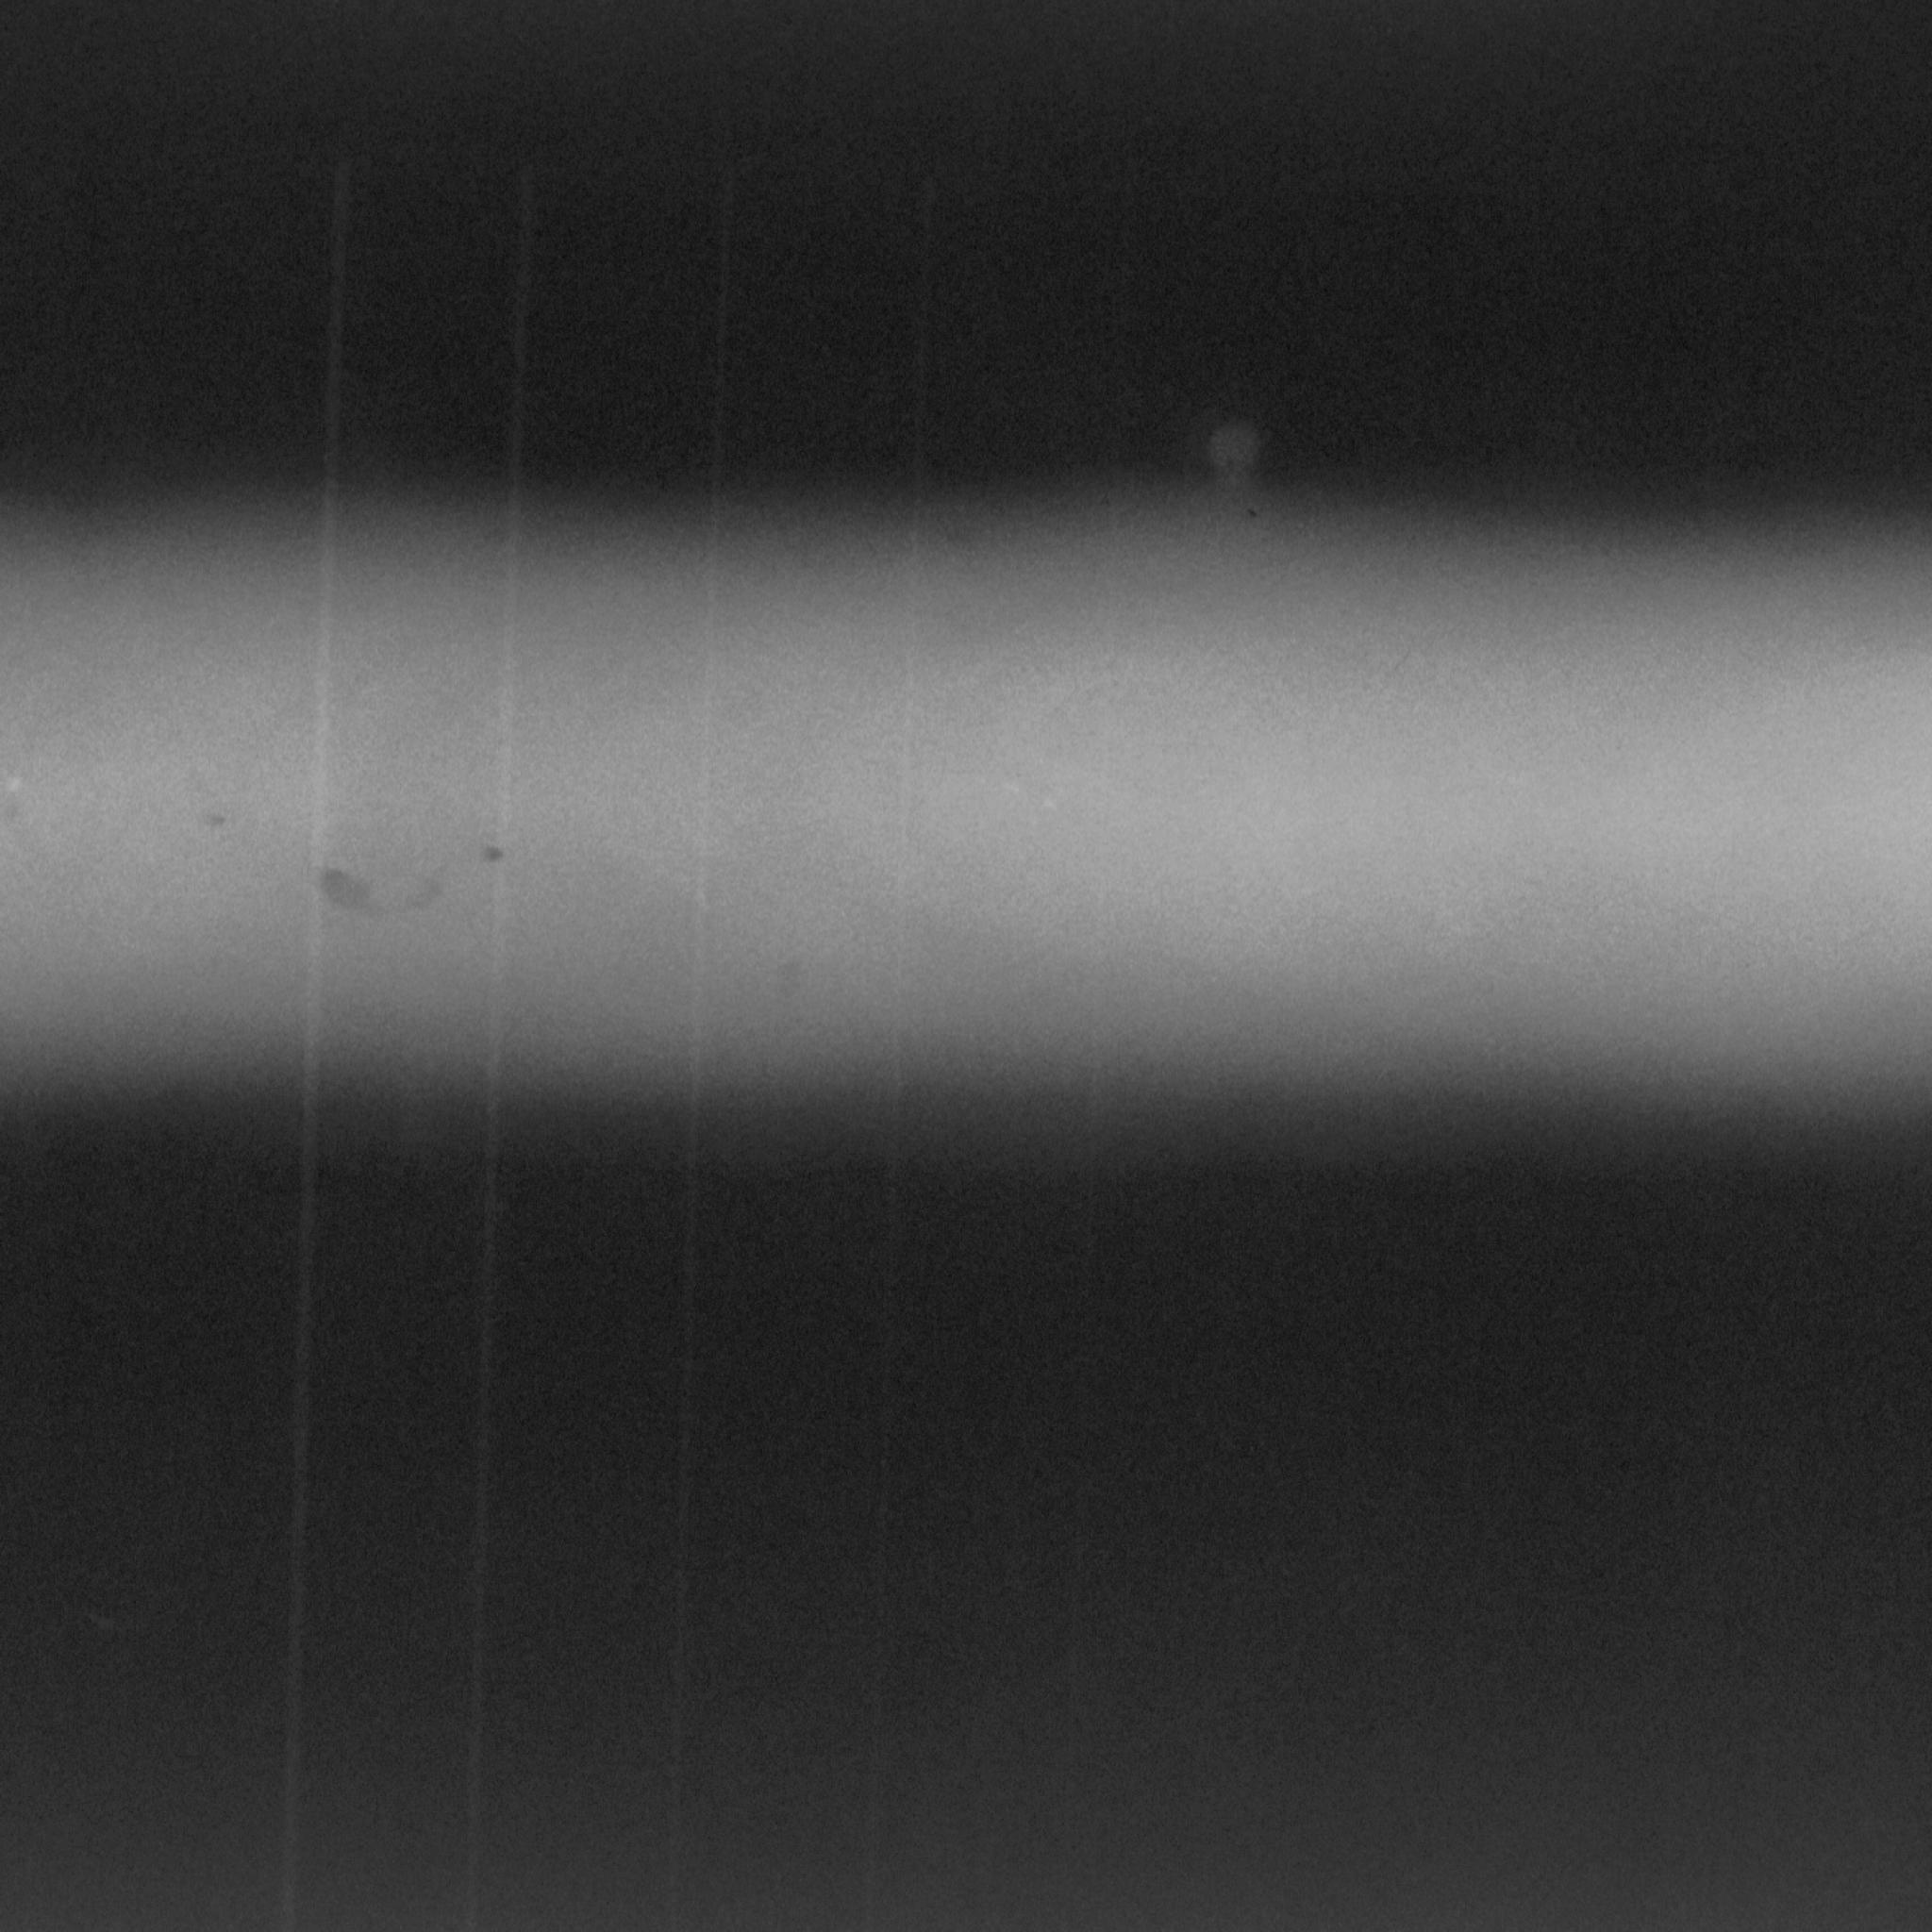Solda Ruim: (0, 409, 1932, 1209)
